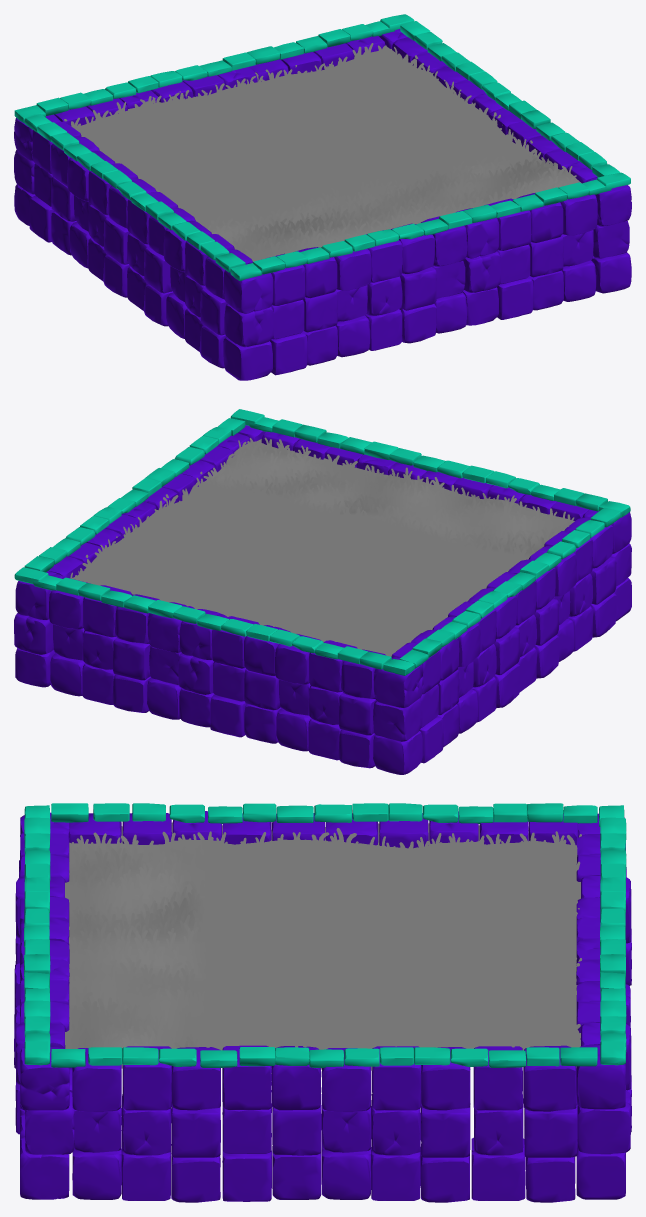
The model's file is basic_bloc_garden01.fbx.
3 views of the same model, one above another, from view 1: azimuth 30°, elevation 25°; view 2: azimuth 150°, elevation 25°; view 3: azimuth 270°, elevation 25° (orthographic). The views are drawn at different scales.
Parts seen in each view (by area): view 1: basic_bloc_garden01; view 2: basic_bloc_garden01; view 3: basic_bloc_garden01.
Boxes of the visible parts, x1,y1,x2,y2 form: basic_bloc_garden01: (14,14,631,380); basic_bloc_garden01: (14,409,631,774); basic_bloc_garden01: (14,803,631,1202).
Bounding box in the file's own units: 15.26 × 4.01 × 15.39.
